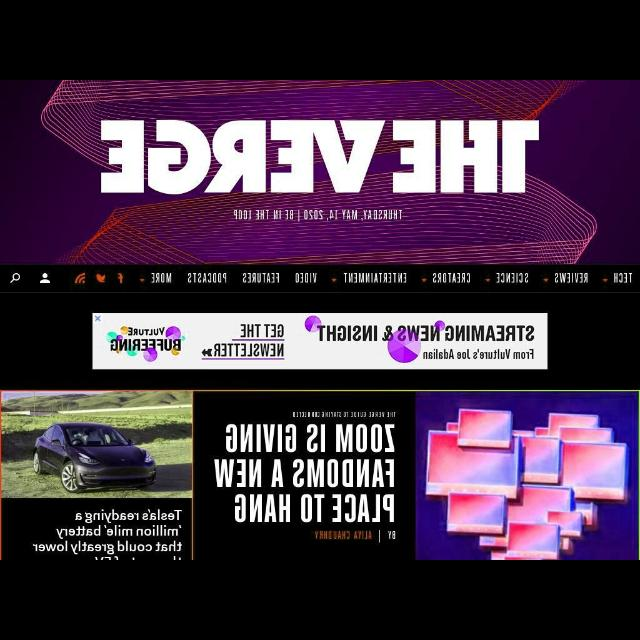icon: (75, 272, 87, 286), (95, 272, 108, 284), (9, 272, 21, 284), (40, 272, 52, 284), (116, 272, 124, 286), (484, 276, 491, 282), (139, 276, 145, 282), (542, 278, 550, 282), (329, 278, 336, 282), (421, 278, 427, 282), (601, 278, 607, 282)
iframe: (92, 312, 548, 371)
image: (1, 81, 639, 265), (416, 391, 640, 559), (2, 392, 192, 498)
link: (314, 530, 374, 540)
spinner: (326, 270, 412, 288), (419, 270, 475, 288), (481, 270, 535, 288), (540, 268, 594, 286), (136, 268, 180, 288), (596, 268, 636, 288)
text: (212, 423, 398, 523), (33, 506, 184, 558), (310, 528, 400, 544), (291, 407, 399, 419), (343, 272, 407, 284), (187, 270, 229, 286), (241, 270, 279, 286), (431, 272, 471, 286), (554, 272, 590, 284), (496, 271, 530, 283), (150, 270, 173, 286), (294, 271, 318, 283), (613, 270, 633, 284)
toolbar: (1, 266, 639, 292)
